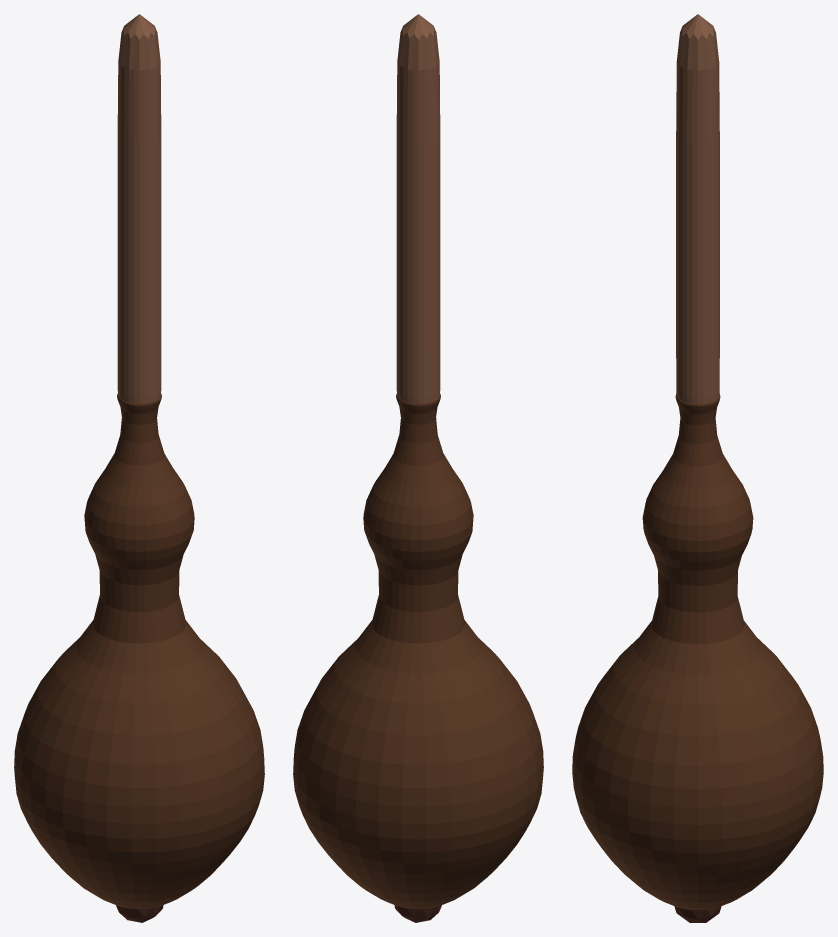
Rendered from Wand 610.glb.
3 views of the same model, side by side, from view 1: azimuth 30°, elevation 25°; view 2: azimuth 150°, elevation 25°; view 3: azimuth 270°, elevation 25° (orthographic).
Parts seen in each view (by area): view 1: GeneratedWand; view 2: GeneratedWand; view 3: GeneratedWand.
Boxes of the visible parts, <box> form: GeneratedWand: <box>14,14,264,922</box>; GeneratedWand: <box>293,14,543,922</box>; GeneratedWand: <box>572,14,823,922</box>.
Size of the model in its own units: 0.123 by 0.4895 by 0.123.
